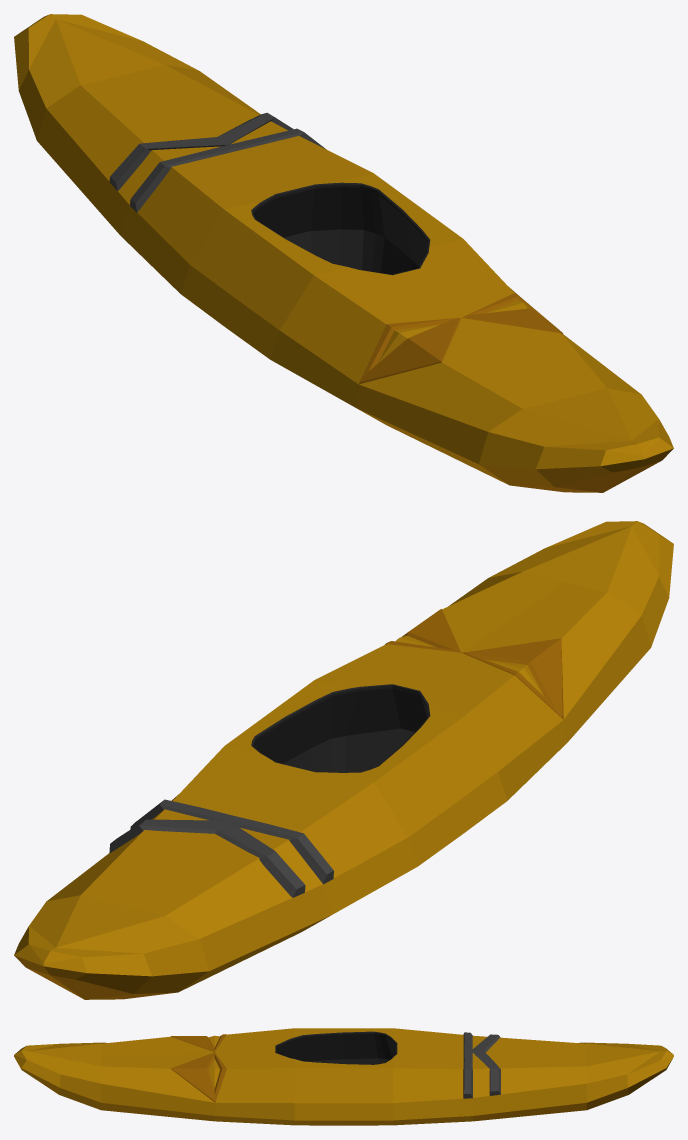
Rendered from KayakV1.glb.
3 views of the same model, one above another, from view 1: azimuth 30°, elevation 25°; view 2: azimuth 150°, elevation 25°; view 3: azimuth 270°, elevation 25° (orthographic). The views are drawn at different scales.
Parts seen in each view (by area): view 1: KayakV1; view 2: KayakV1; view 3: KayakV1.
Part boxes in pixels (<box>): KayakV1: <box>14,14,673,492</box>; KayakV1: <box>14,521,673,999</box>; KayakV1: <box>14,1028,673,1125</box>.
Size of the model in its own units: 1.12 by 0.5359 by 4.92.
1 material, 1 textured.
